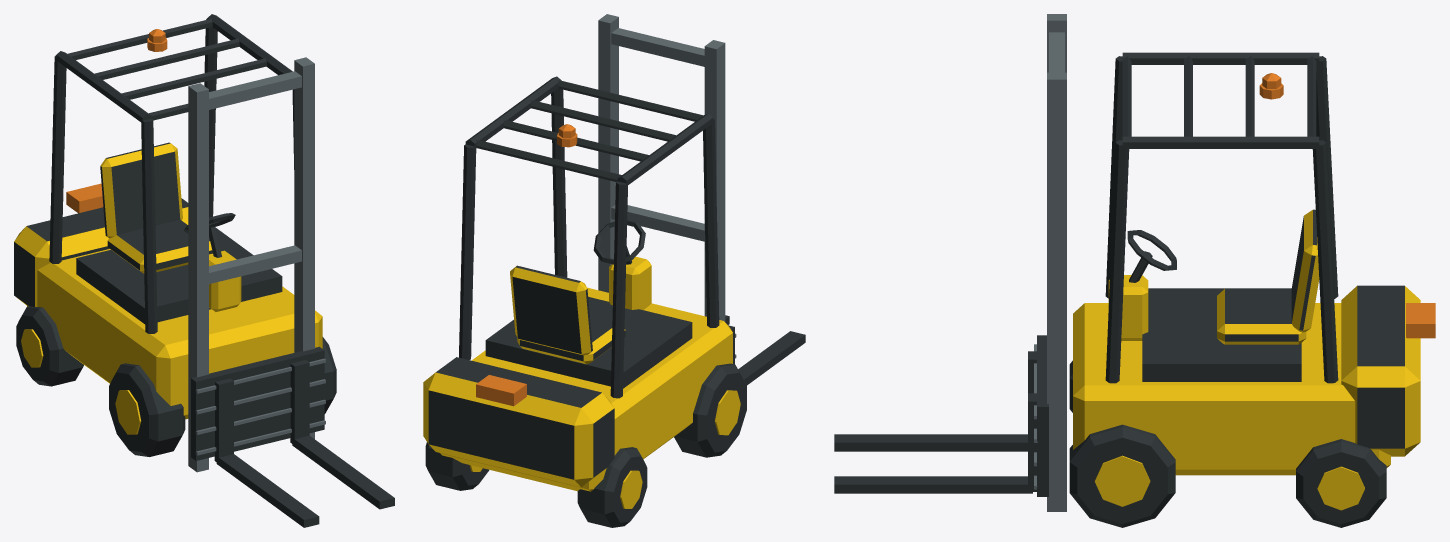
File: gabelstapler.glb
The picture shows the model from 3 angles, left to right: view 1: azimuth 30°, elevation 25°; view 2: azimuth 150°, elevation 25°; view 3: azimuth 270°, elevation 25°; orthographic projection. The views are drawn at different scales.
Parts seen in each view (by area): view 1: gabelstapler-m, gabel-m; view 2: gabelstapler-m, gabel-m; view 3: gabelstapler-m, gabel-m.
Boxes of the visible parts, <box> form: gabelstapler-m: <box>14,14,336,472</box>; gabel-m: <box>191,346,394,527</box>; gabelstapler-m: <box>423,14,746,527</box>; gabel-m: <box>725,315,805,385</box>; gabelstapler-m: <box>1047,14,1435,527</box>; gabel-m: <box>834,335,1048,496</box>.
Bounding box in the file's own units: 1.26 × 2.4 × 3.02.
